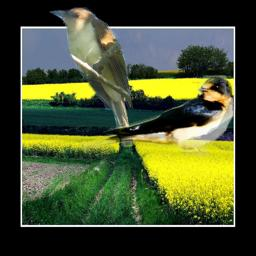Cuckoo: (47, 6, 137, 154)
Swallow: (79, 75, 236, 156)
